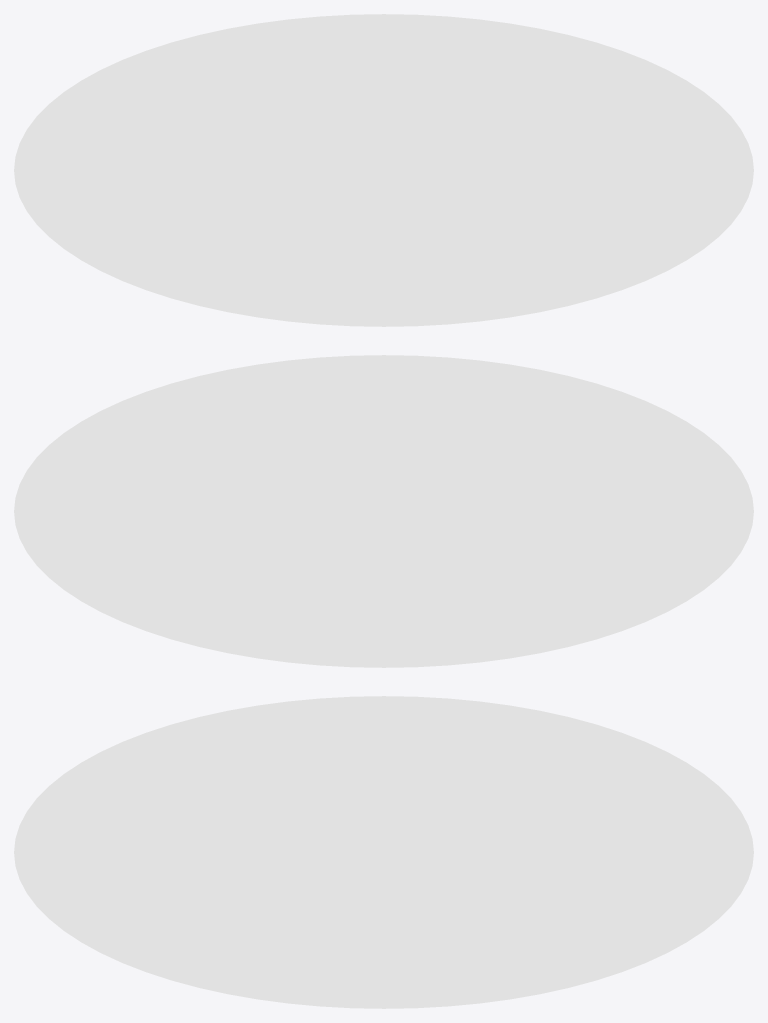
File: warning_circle.obj
3 renders of one model, top to bottom at view 1: azimuth 30°, elevation 25°; view 2: azimuth 150°, elevation 25°; view 3: azimuth 270°, elevation 25°, orthographic.
Parts seen in each view (by area): view 1: warning_circle; view 2: warning_circle; view 3: warning_circle.
Part boxes in pixels (x1=…): warning_circle: x1=14, y1=14, x2=753, y2=326; warning_circle: x1=14, y1=355, x2=753, y2=667; warning_circle: x1=14, y1=696, x2=753, y2=1008.
Bounding box in the file's own units: 2 × 0 × 2.
